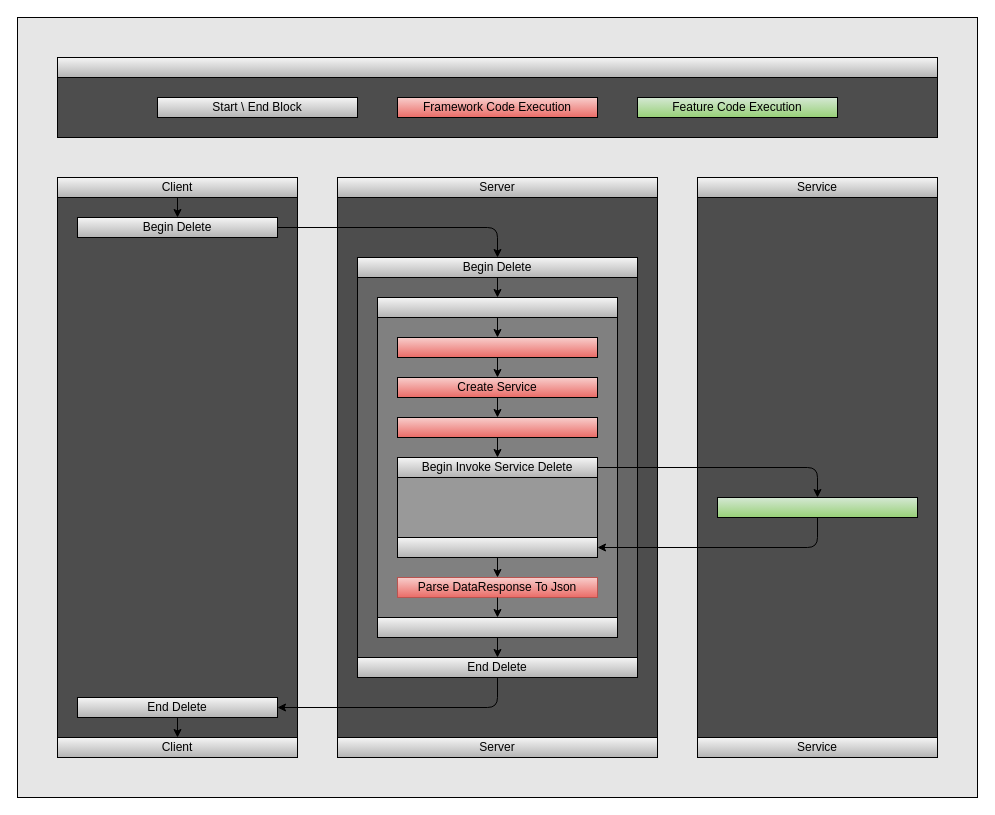
Image size: 995x815. Some labels were removed from this diagram. Here are the shapes that lost their labels. From the top down, the box of each, then its label:
(56, 56, 938, 78): Legend
(376, 296, 618, 318): Begin Invoke Service
(396, 336, 598, 358): Create Environment
(396, 416, 598, 438): Parse Json To DataRequest
(716, 496, 918, 518): Delete
(396, 536, 598, 558): End Invoke Service Delete
(376, 616, 618, 638): End Invoke Service
